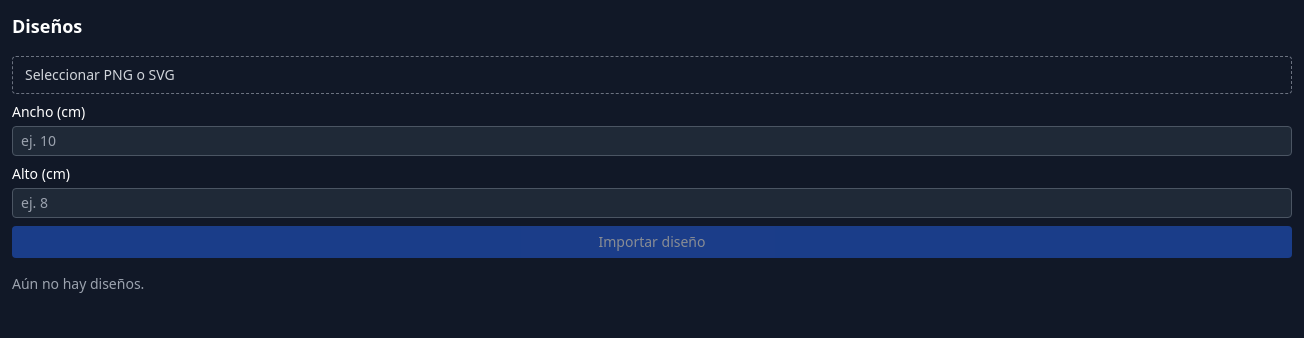
DesignList import UI › shows an error when the file dialog throws
This screenshot has width=1304, height=338.
Click the button "Seleccionar PNG o SVG". click: (100, 74)
box: x1=12 y1=56 x2=1292 y2=94
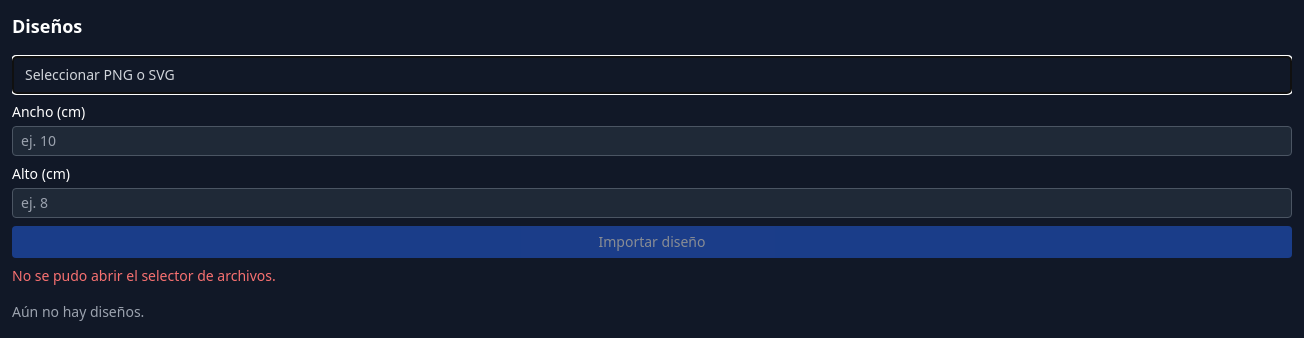
Now the message reads "No se pudo abrir el selector de archivos.", box x1=12 y1=266 x2=276 y2=285
